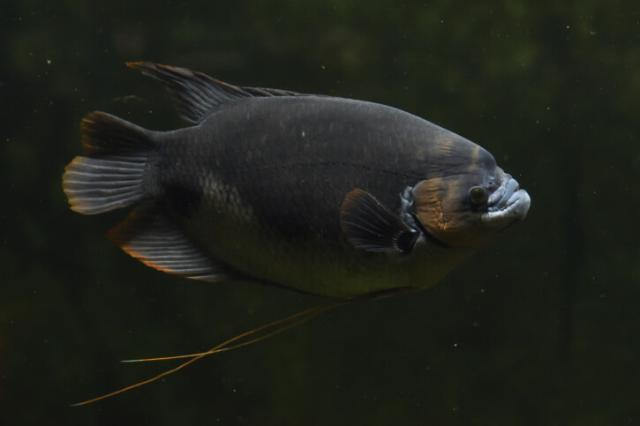Mulut: (473, 161, 557, 238)
Sirip Anal: (98, 191, 242, 303)
Sirip Dada: (325, 174, 435, 276)
Sirip Ekor: (49, 95, 162, 227)
Sirip Punggung: (116, 43, 312, 139)
